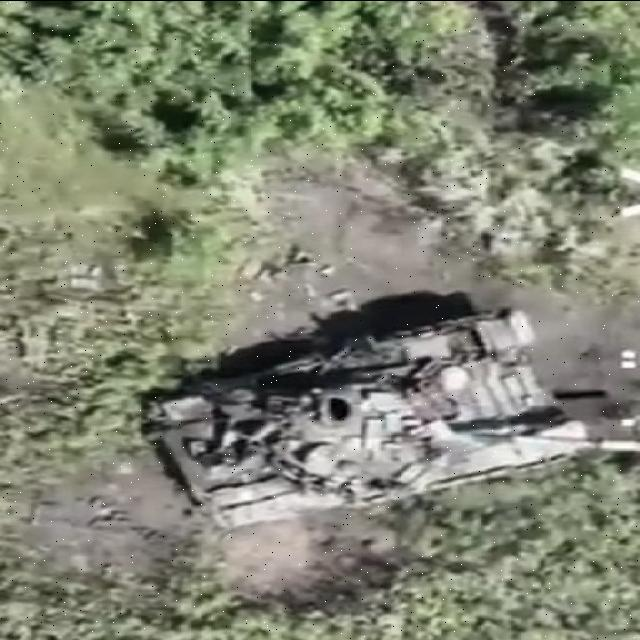TANK: (138, 301, 618, 535)
